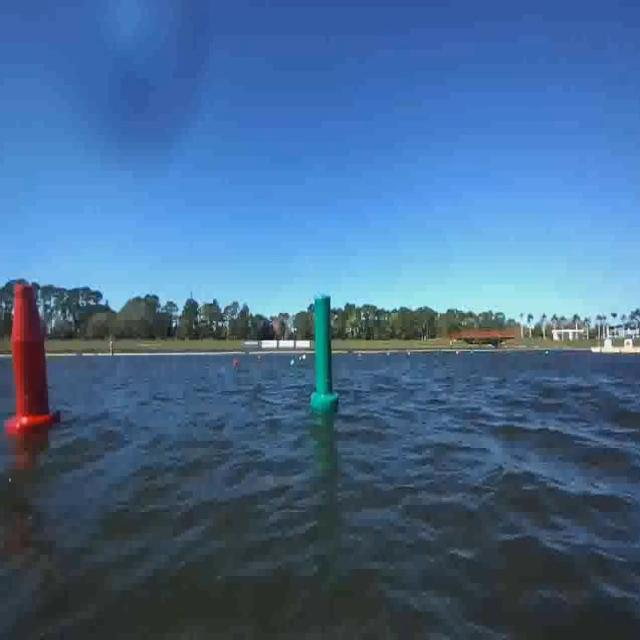green-column-buoy: (310, 292, 340, 409)
red-column-buoy: (5, 284, 55, 435)
